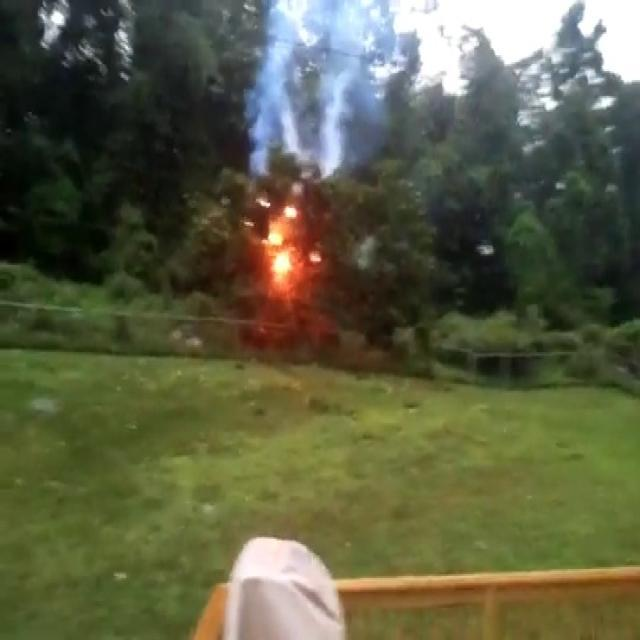Fire: (260, 204, 303, 284)
Smoke: (244, 0, 414, 180)
